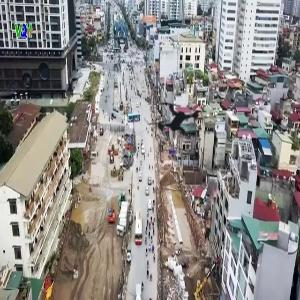drone: (137, 77, 221, 161)
